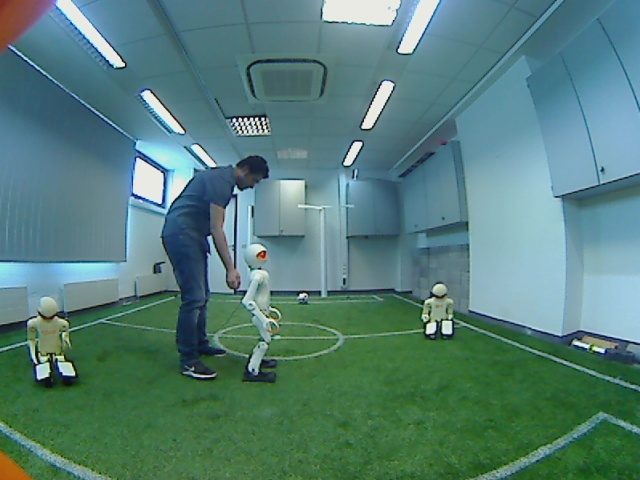ball: (293, 289, 315, 309)
robot: (234, 241, 286, 389), (19, 291, 88, 387), (413, 281, 461, 347)
